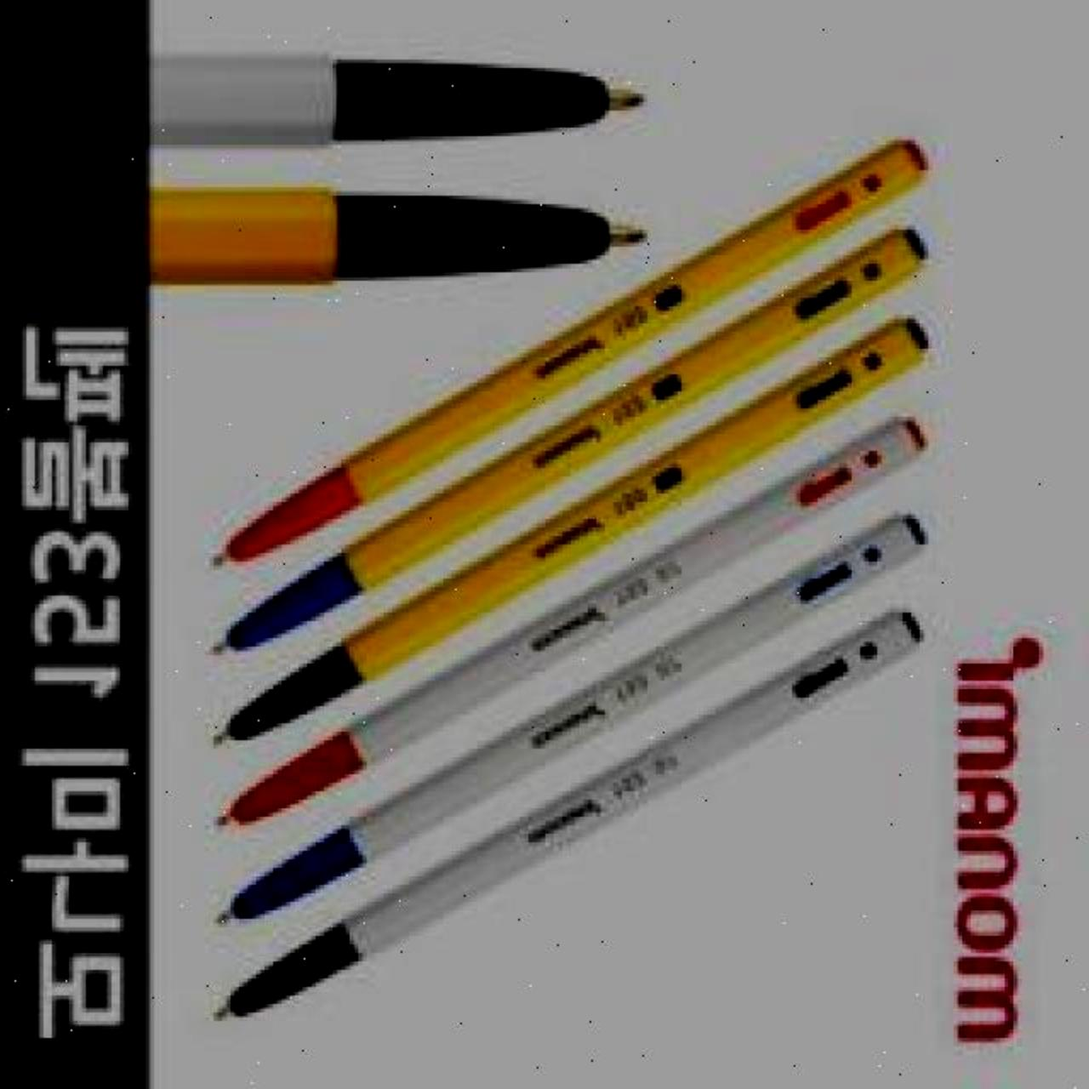pen: (208, 599, 927, 1024)
